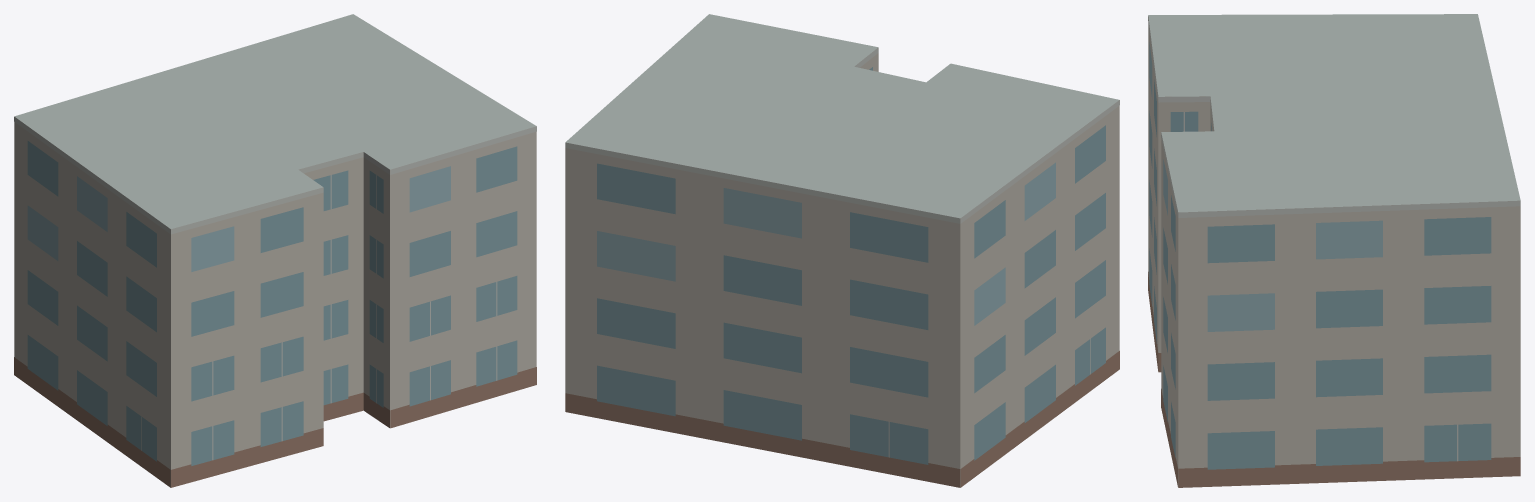
Rendered from survey-upis-32961085.glb.
3 views of the same model, side by side, from view 1: azimuth 30°, elevation 25°; view 2: azimuth 150°, elevation 25°; view 3: azimuth 270°, elevation 25° (orthographic). The views are drawn at different scales.
Parts seen in each view (by area): view 1: survey-upis-32961085.tmp; view 2: survey-upis-32961085.tmp; view 3: survey-upis-32961085.tmp.
Part boxes in pixels (bbox=[...]): survey-upis-32961085.tmp: bbox=[14, 14, 536, 487]; survey-upis-32961085.tmp: bbox=[565, 14, 1119, 487]; survey-upis-32961085.tmp: bbox=[1148, 14, 1520, 487].
Size of the model in its own units: 18.4 by 11.9 by 14.6.
